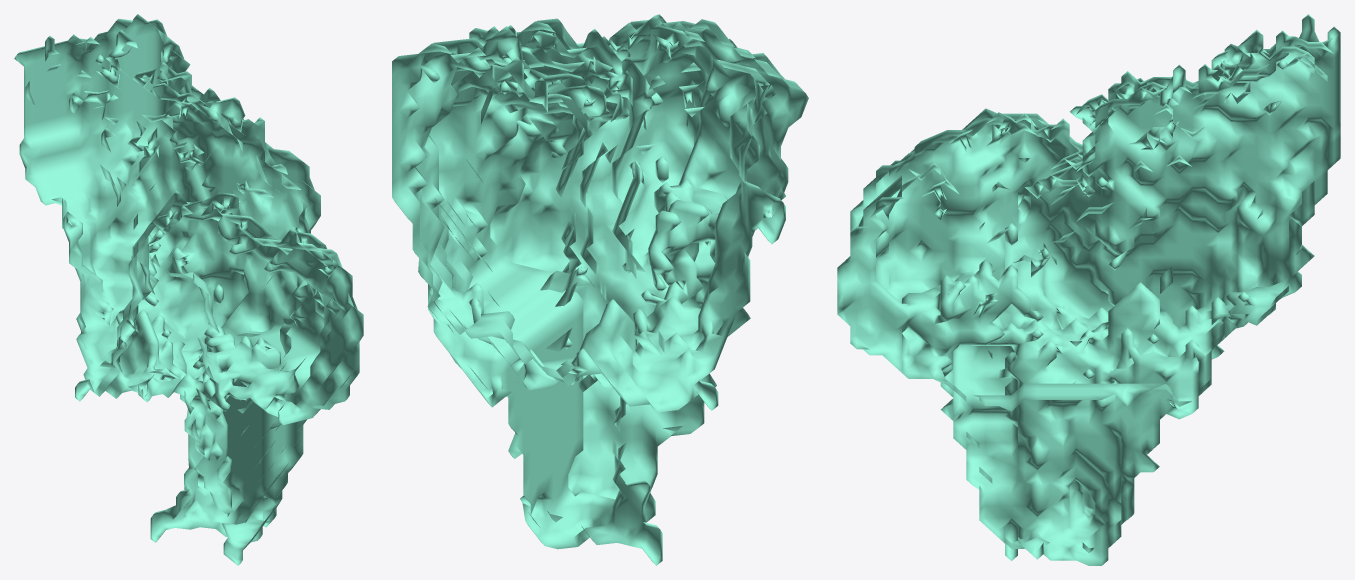
Rendered from osteocyte_57.glb.
3 renders of one model, left to right at view 1: azimuth 30°, elevation 25°; view 2: azimuth 150°, elevation 25°; view 3: azimuth 270°, elevation 25°, orthographic. The views are drawn at different scales.
Parts seen in each view (by area): view 1: osteocyte_57; view 2: osteocyte_57; view 3: osteocyte_57.
Part boxes in pixels (box(x1,y1,x2,y2)): osteocyte_57: box(14, 14, 363, 565); osteocyte_57: box(392, 14, 808, 565); osteocyte_57: box(837, 14, 1340, 565).
Bounding box in the file's own units: 11.55 × 21.67 × 18.78.
